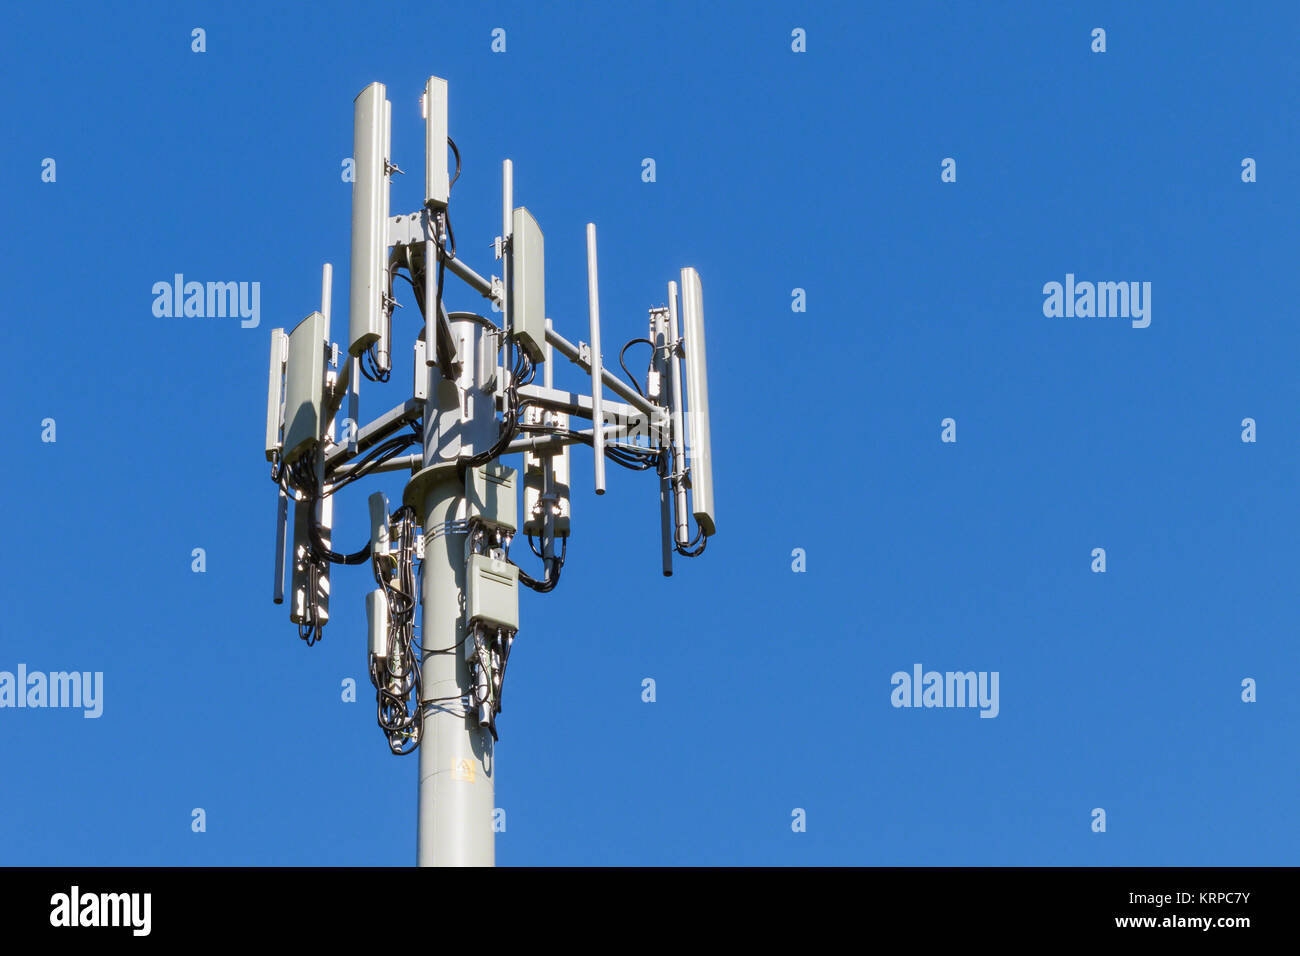sa: (330, 67, 407, 359), (565, 210, 638, 501), (657, 261, 726, 534), (269, 296, 332, 494), (501, 174, 559, 368), (413, 60, 464, 226)
